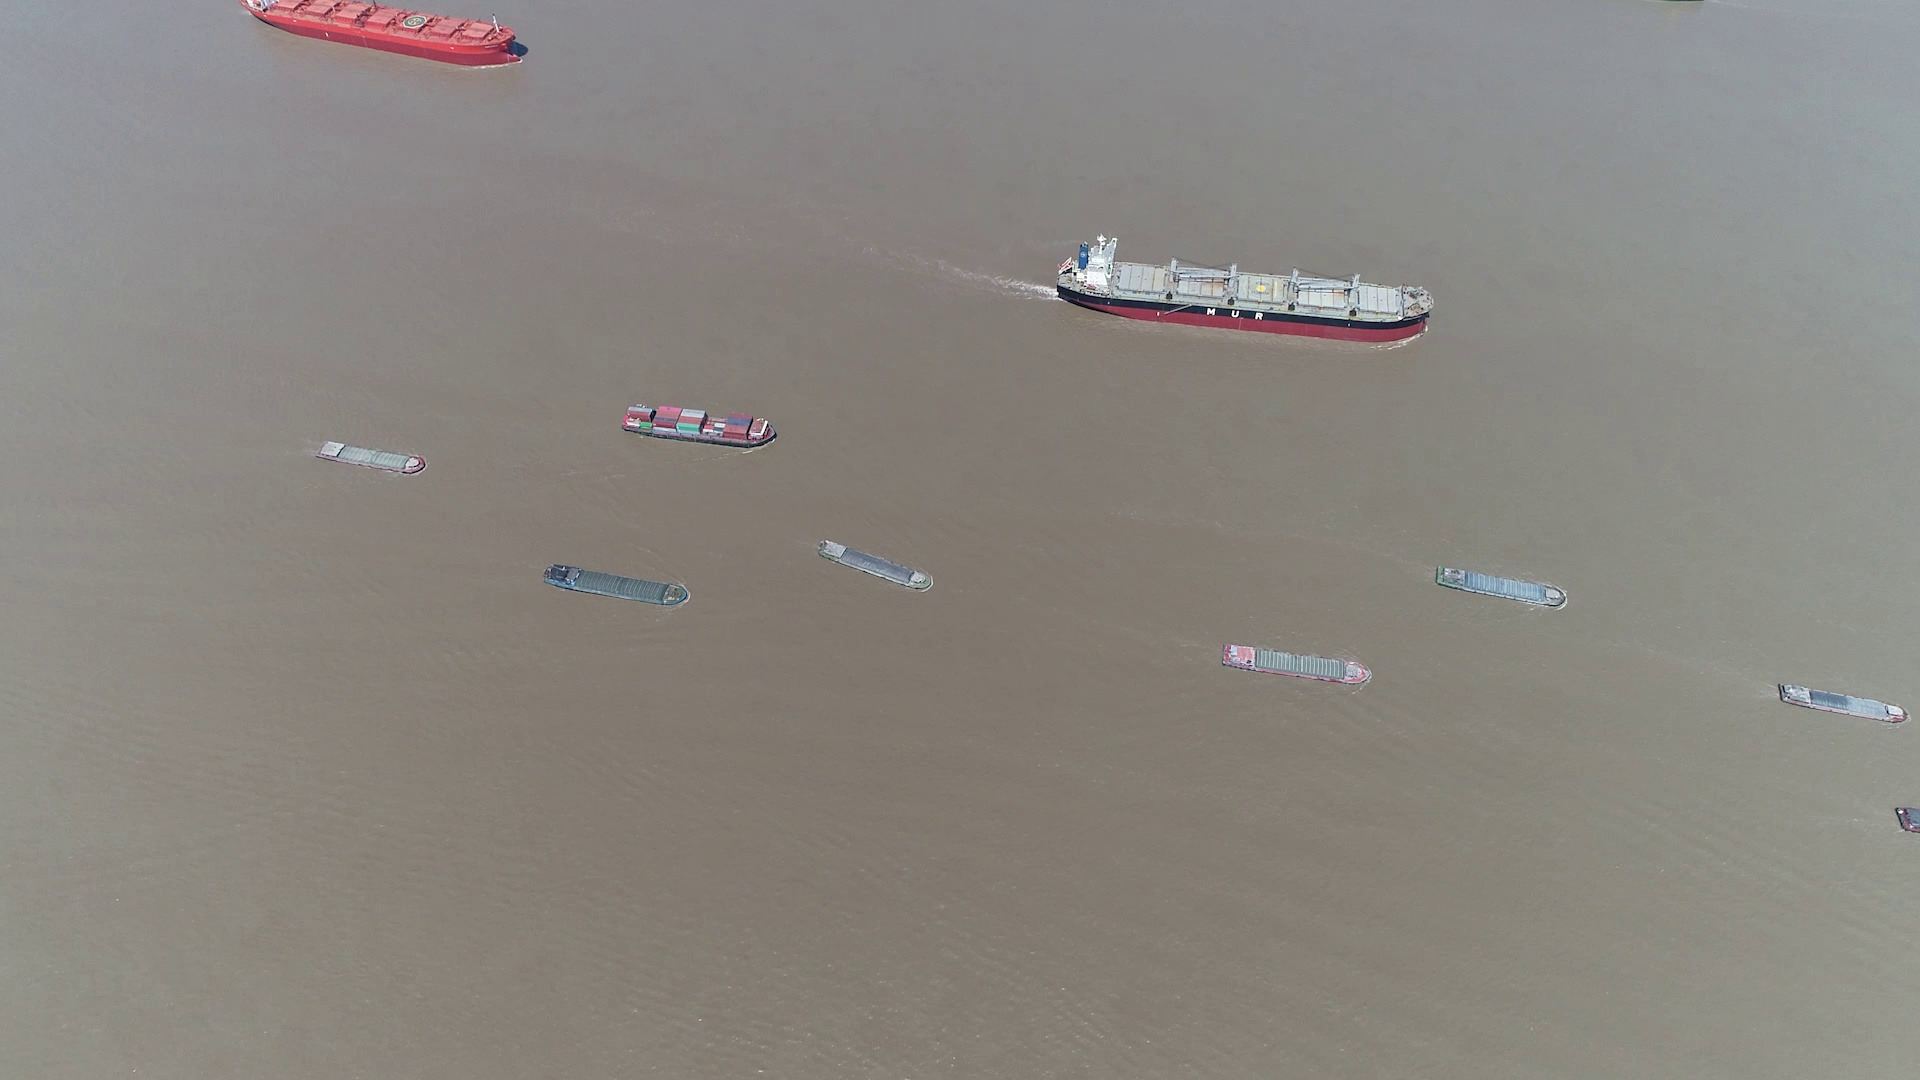ship: (1058, 237, 1437, 342), (243, 0, 524, 66), (543, 564, 692, 608), (622, 404, 775, 446), (1221, 644, 1371, 686), (819, 541, 934, 592), (1435, 564, 1569, 608), (1776, 684, 1908, 724), (315, 439, 429, 473), (1896, 804, 1920, 837)
